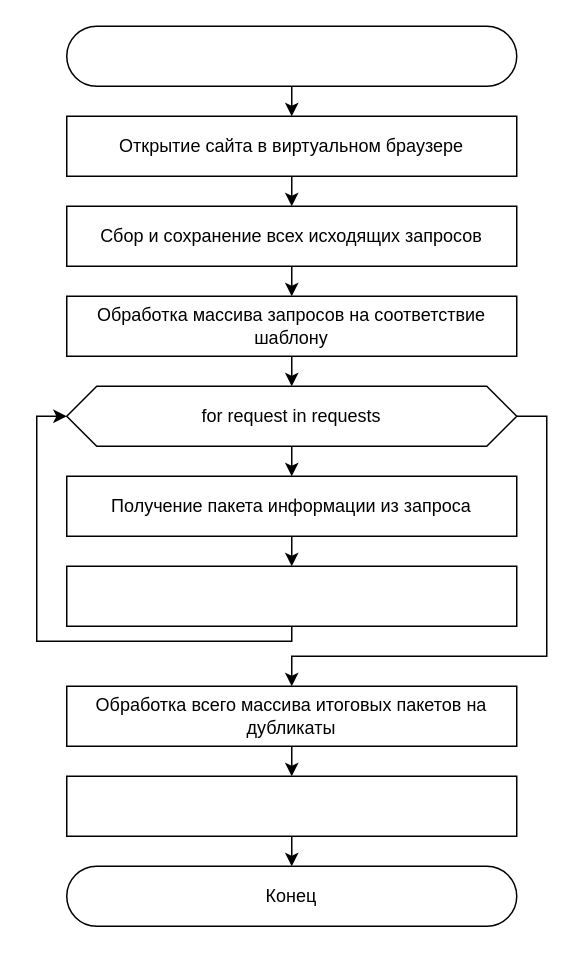
The diagram is 585 pixels wide and 953 high, and some of its shapes have lost their labels. Each missing label, with the box of its shape:
Начало: (65, 25, 517, 86)
Обработка пакета информации: (65, 565, 517, 626)
Сохранение обработанных пакетов в файл: (65, 775, 517, 836)
